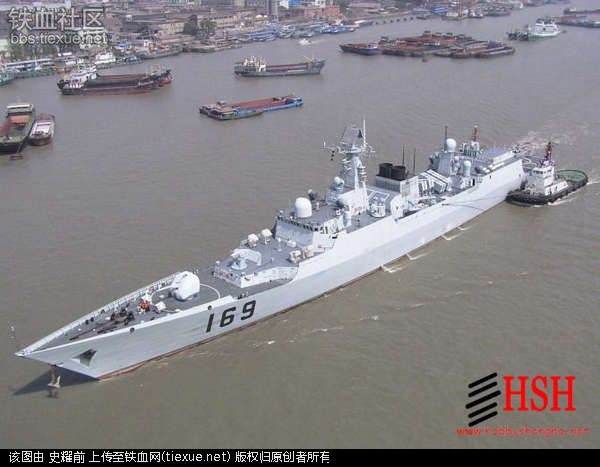Cargoship: (52, 69, 161, 95), (230, 50, 327, 76), (1, 98, 34, 156), (29, 110, 55, 144)
otherboat: (504, 142, 588, 206)
warship: (10, 120, 539, 385)
